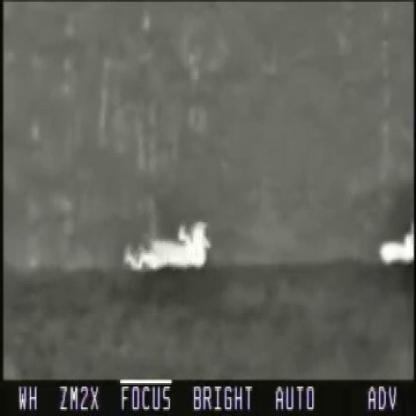rehkitze: (117, 224, 212, 274), (373, 224, 413, 268)
